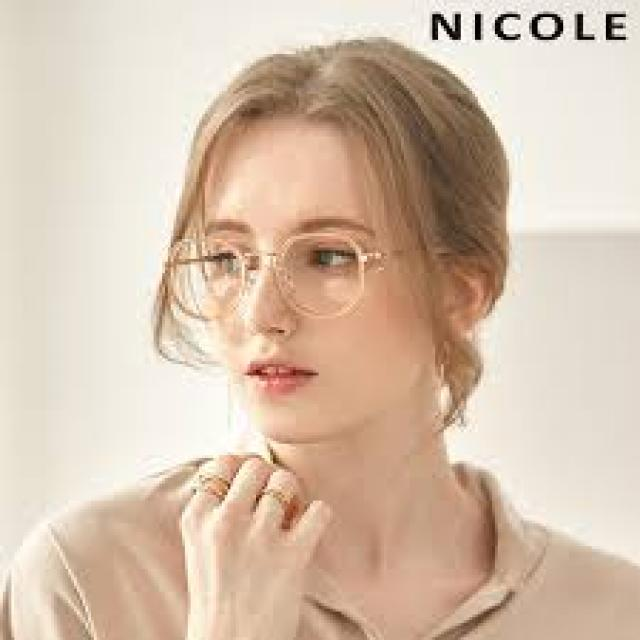Glasses: (152, 218, 394, 322)
